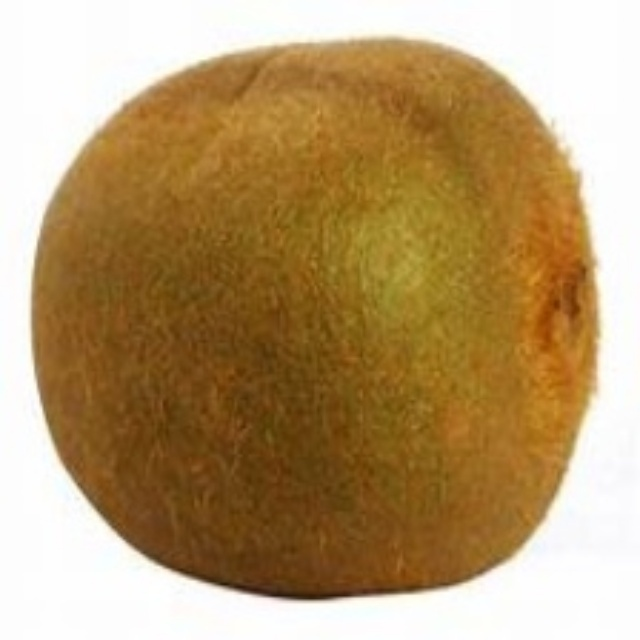kiwi: (38, 36, 576, 599)
